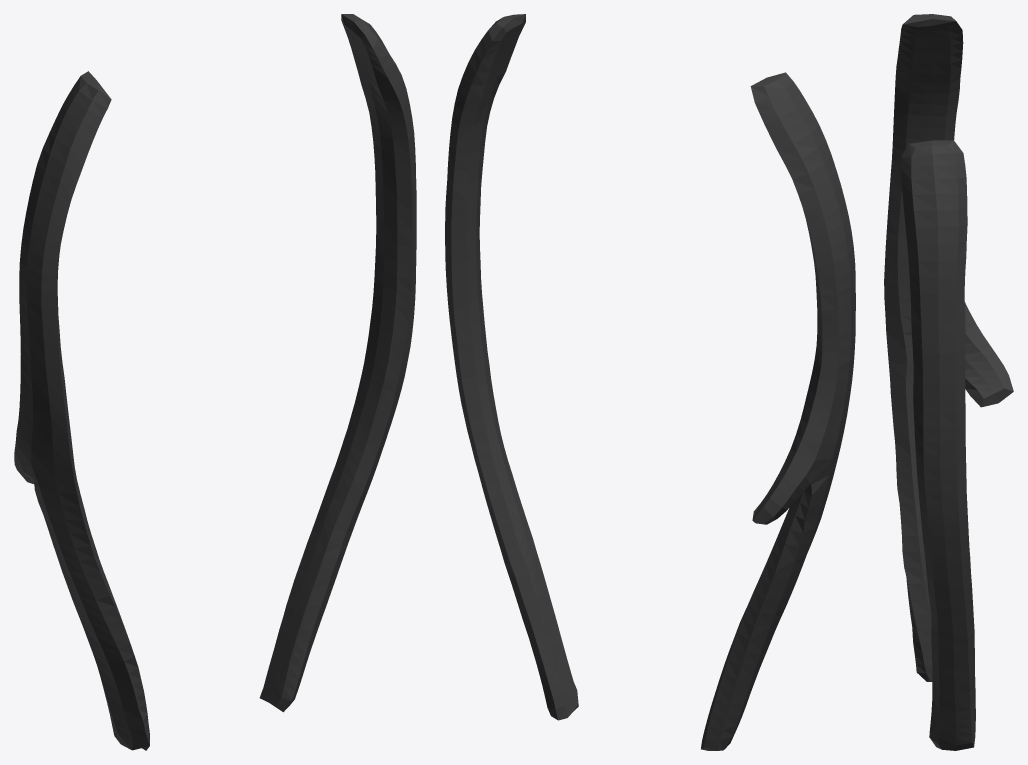
The model's file is Collateral_ligs_elbow.glb.
3 renders of one model, left to right at view 1: azimuth 30°, elevation 25°; view 2: azimuth 150°, elevation 25°; view 3: azimuth 270°, elevation 25°, orthographic. The views are drawn at different scales.
Visible parts, largest first — view 1: Collateral_ligs_elbow; view 2: Collateral_ligs_elbow; view 3: Collateral_ligs_elbow.
Boxes of the visible parts, x1,y1,x2,y2 form: Collateral_ligs_elbow: (14,14,416,750); Collateral_ligs_elbow: (445,14,855,750); Collateral_ligs_elbow: (884,14,1013,750).
Bounding box in the file's own units: 19.49 × 32.23 × 5.9.
Materials: 1 (1 with a texture image).
